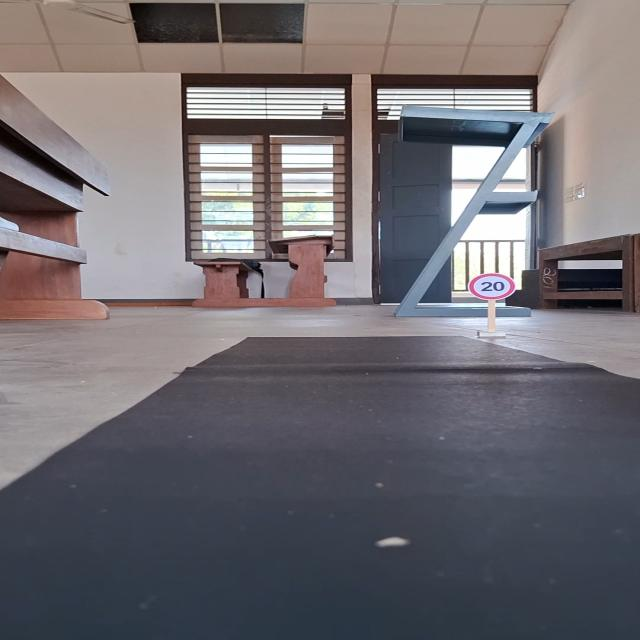Speed20: (466, 270, 518, 302)
